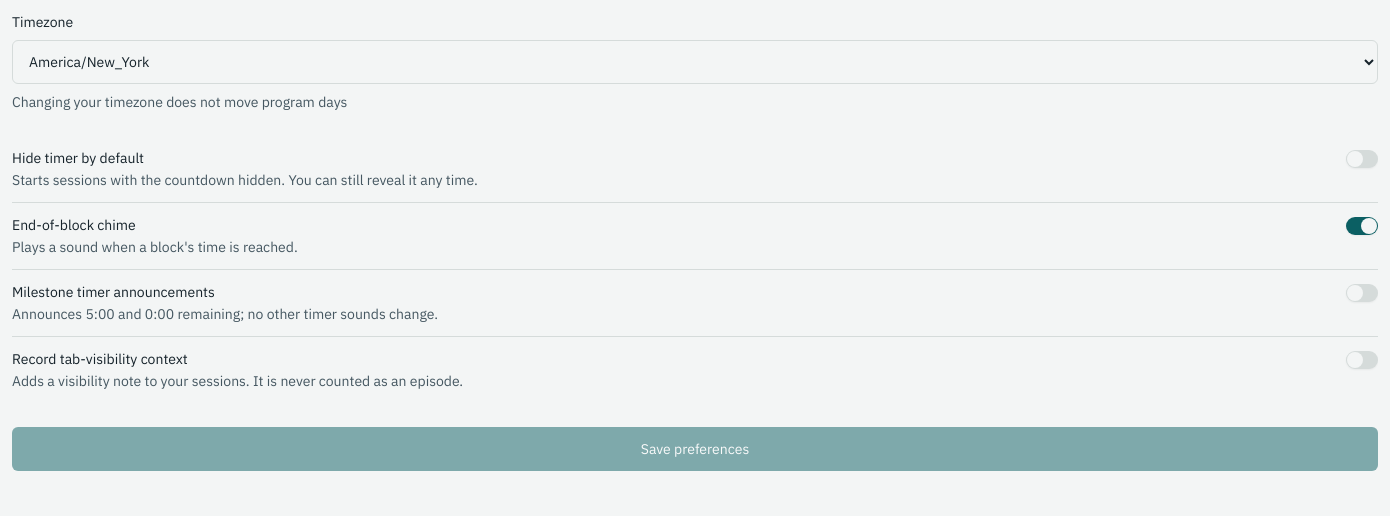
Preferences › invalid timezone 400 shows a field error, colored for attention (U15a)
Select "Europe/Berlin" in the dropdown labelled "Timezone" at (695, 62), box [12,40,1378,84]
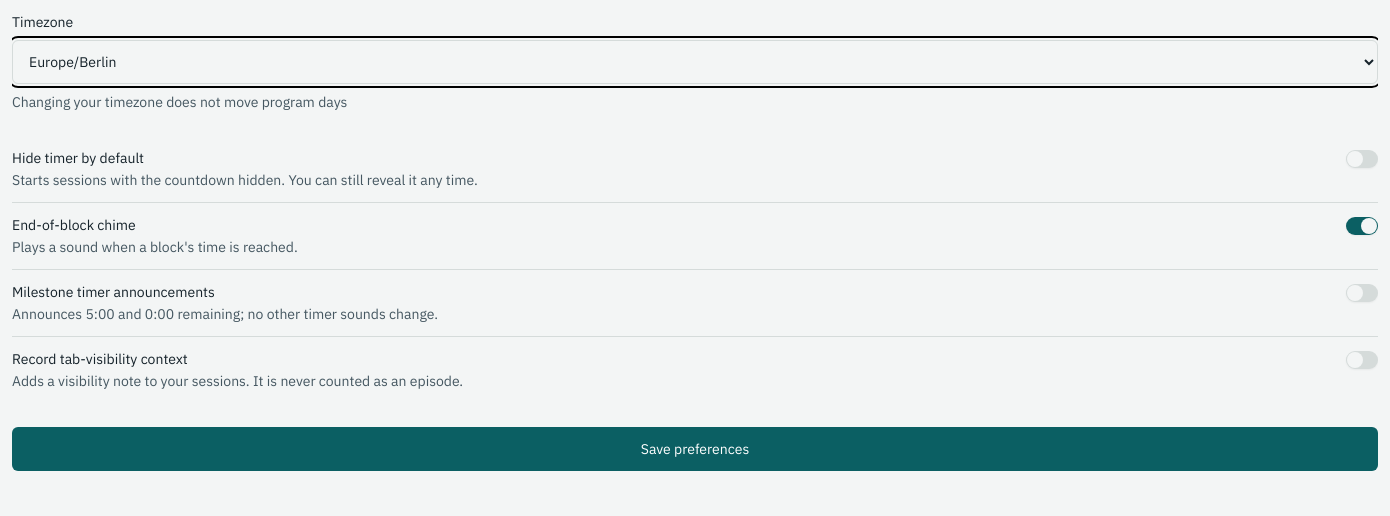
Click the button "Save preferences".
click(695, 449)  # box [12,427,1378,471]
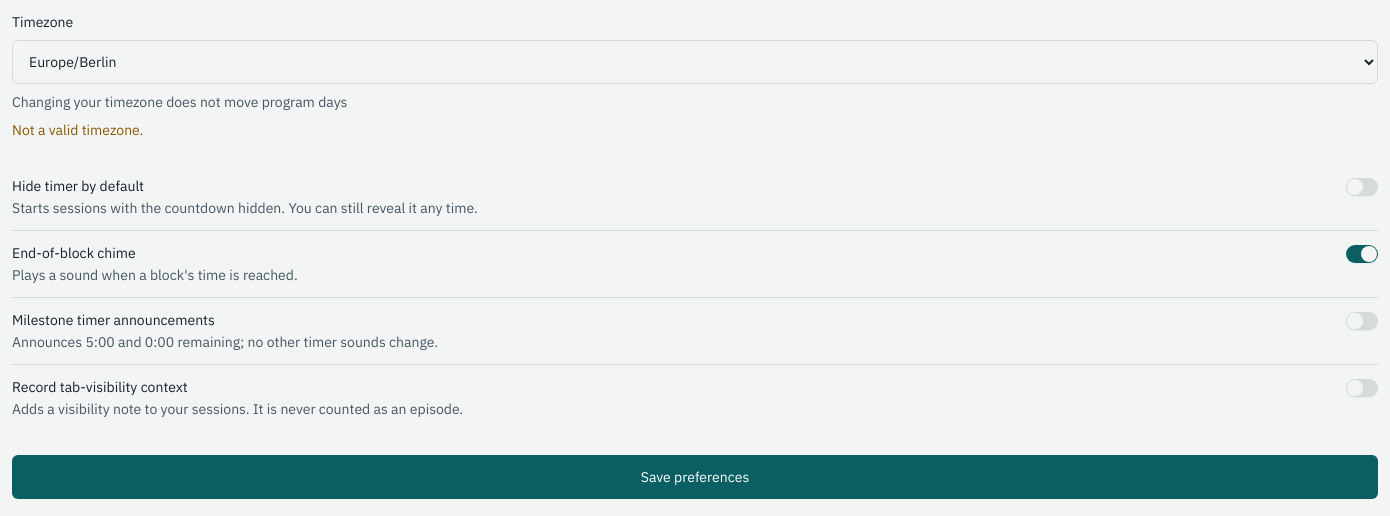
Result: the message reads "Not a valid timezone." at [12,121,143,139]
